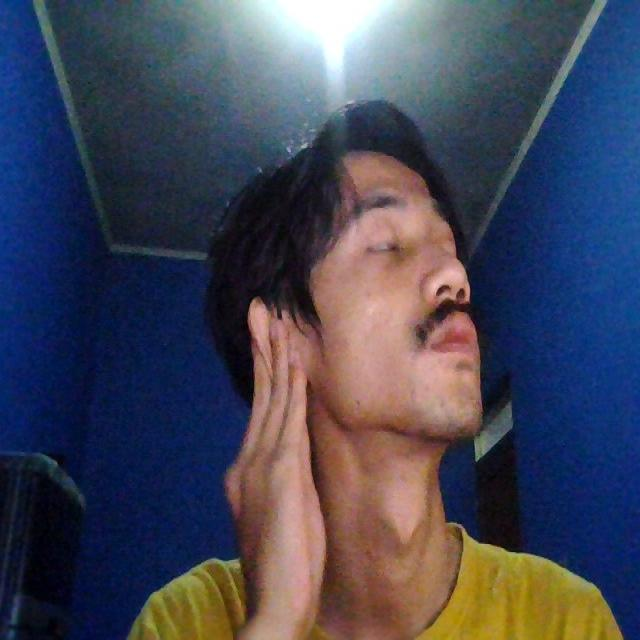melihat kekiri: (177, 135, 518, 478)
movement: (156, 320, 346, 618)
